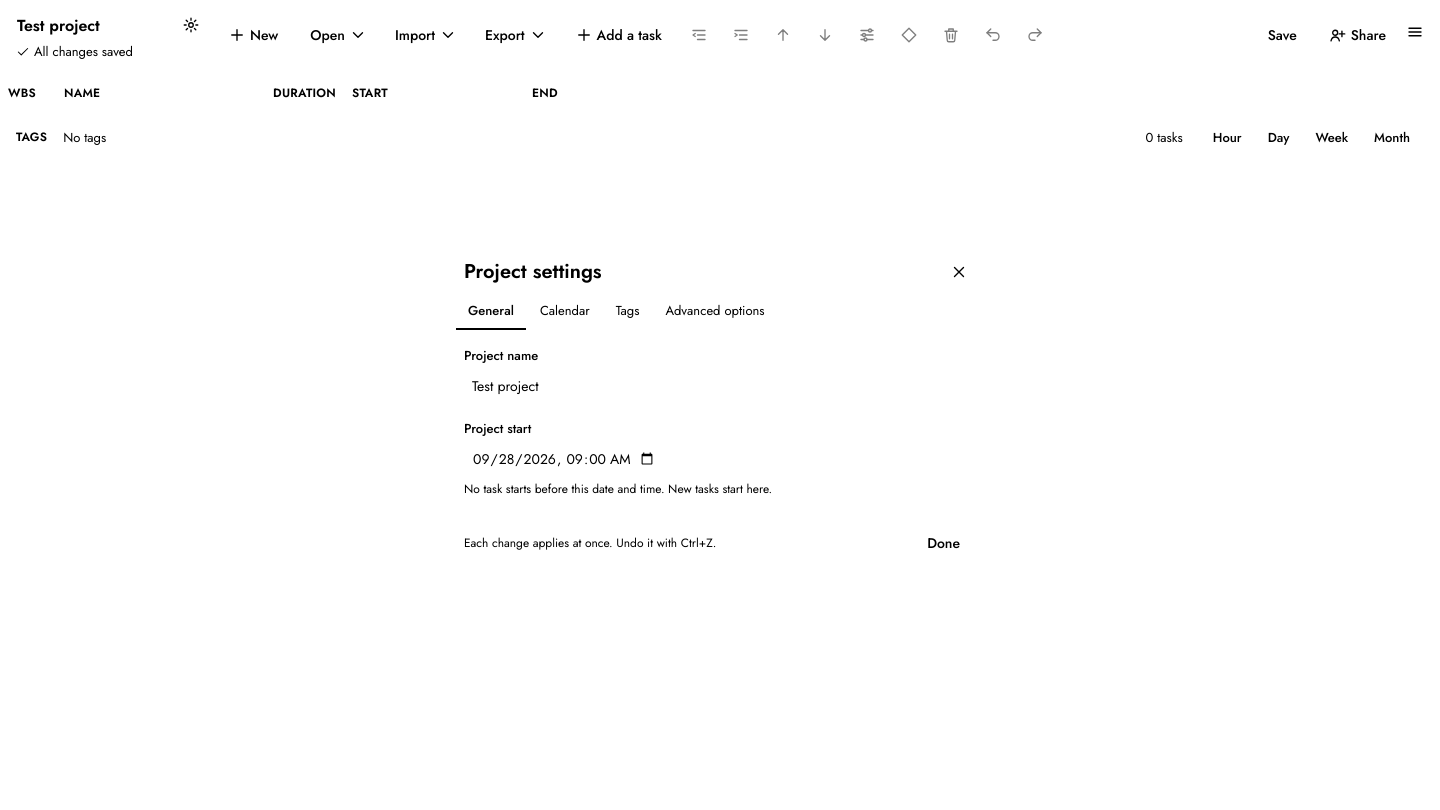
Test: the Tags tab › starts with a message when the project has no tag
What coordinates should you click on to do the following:
click the tab "Tags"
I would click on:
 (628, 311)
Its box is left=604, top=292, right=651, bottom=330.
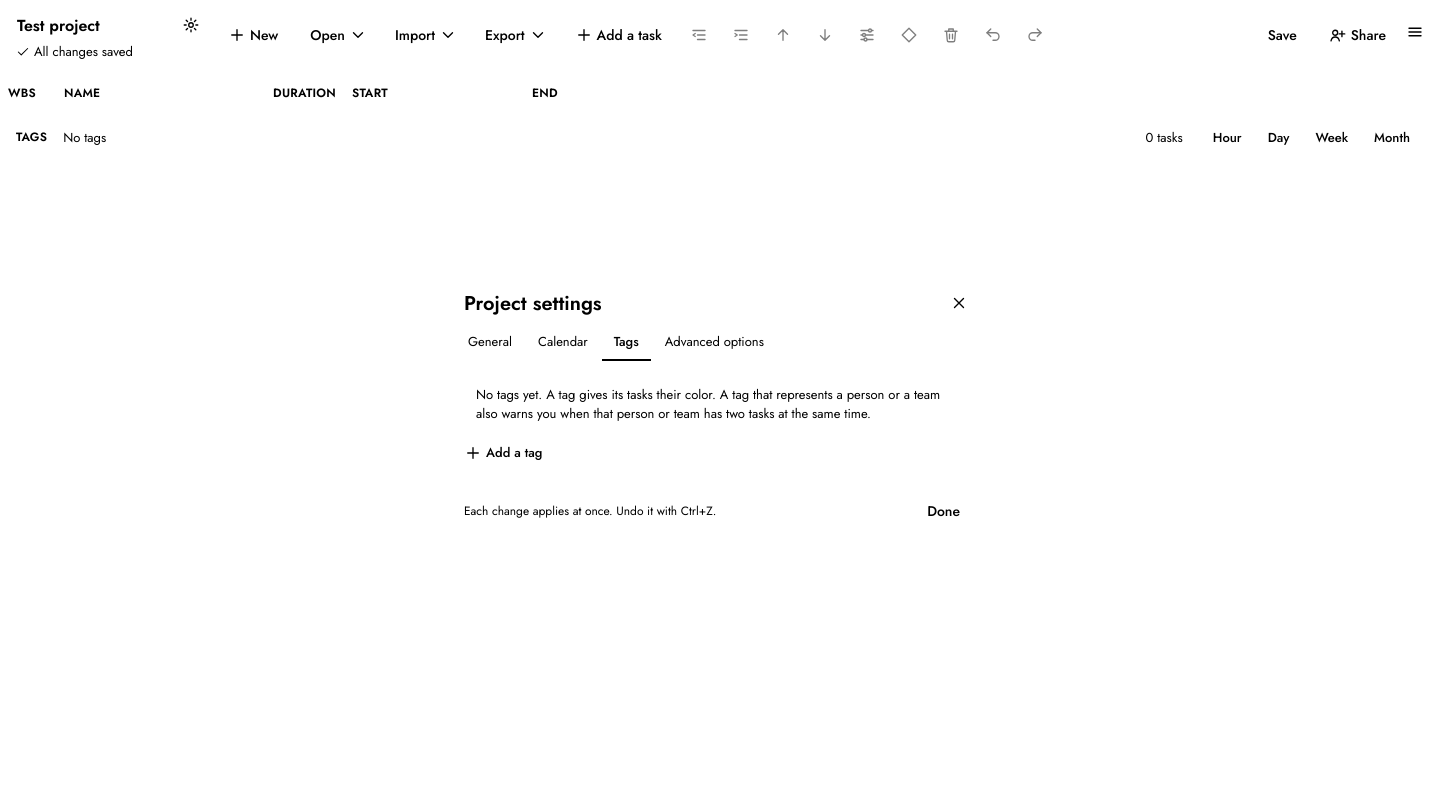
Now the text with class "empty" shows "No tags yet. A tag gives its tasks their color. A tag that represents a person or a team also warns you when that person or team has two tasks at the same time.", box left=476, top=385, right=940, bottom=423
